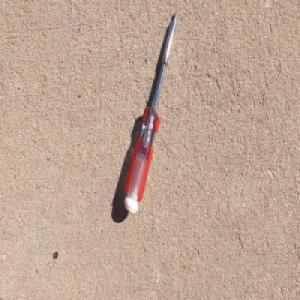Screwdriver: (122, 10, 178, 217)
